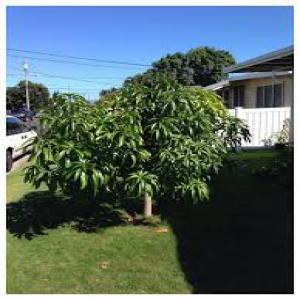Tree: (30, 81, 250, 218)
